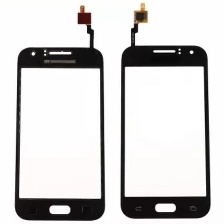phone: (6, 42, 113, 224), (116, 39, 214, 221)
